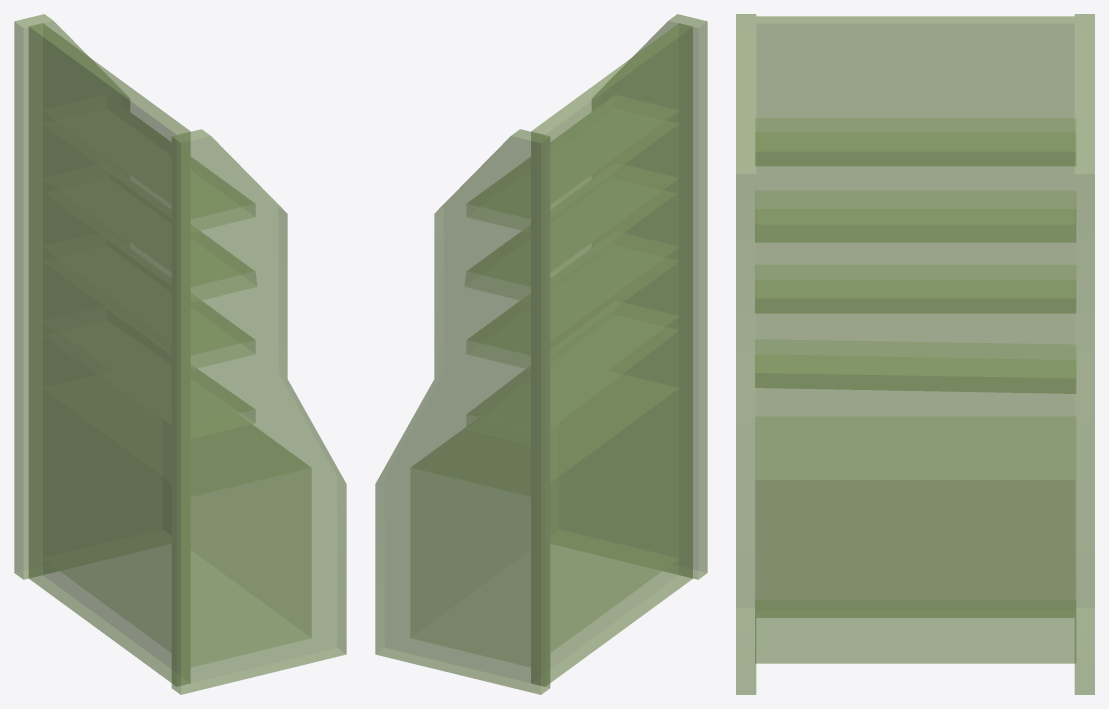
The model's file is shelf_A_COL.fbx.
3 views of the same model, side by side, from view 1: azimuth 30°, elevation 25°; view 2: azimuth 150°, elevation 25°; view 3: azimuth 270°, elevation 25° (orthographic). The views are drawn at different scales.
Parts seen in each view (by area): view 1: shelf_A_COL; view 2: shelf_A_COL; view 3: shelf_A_COL.
Part boxes in pixels (bbox=[...]): shelf_A_COL: bbox=[14, 14, 346, 694]; shelf_A_COL: bbox=[375, 14, 707, 694]; shelf_A_COL: bbox=[736, 14, 1094, 694].
Bounding box in the file's own units: 122 × 388 × 212.
